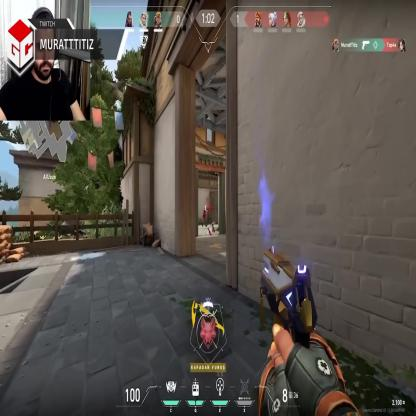enemy: (202, 204, 208, 226)
enemy_head: (204, 205, 206, 209)
